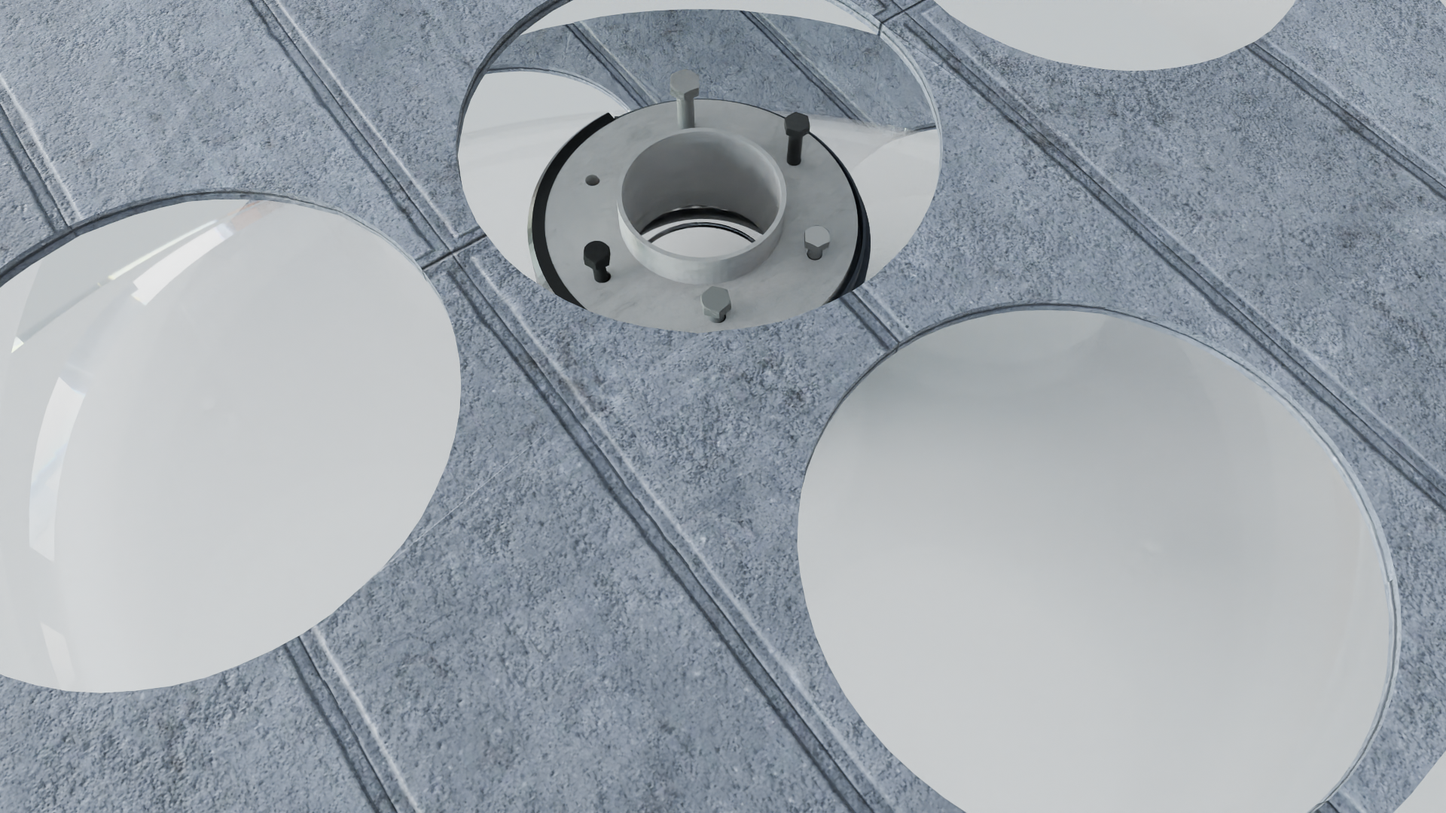bolt: (700, 286, 731, 312), (670, 69, 699, 93), (584, 241, 609, 264), (805, 225, 830, 247), (785, 112, 810, 132)
